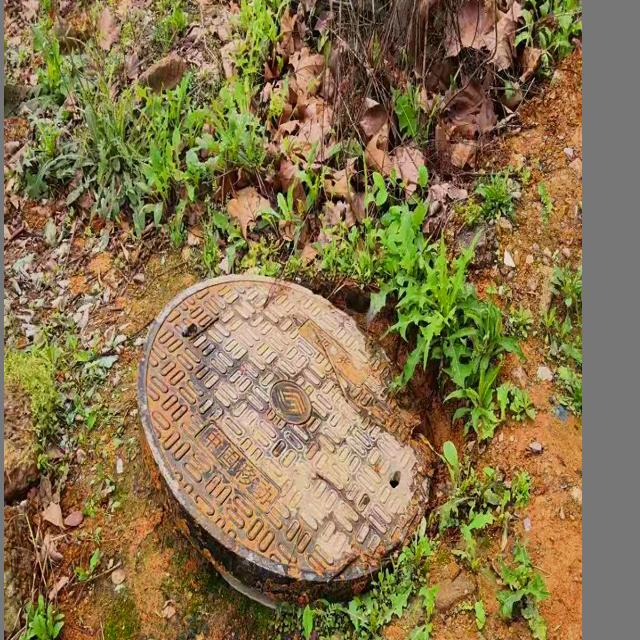uncovered: (126, 245, 489, 613)
